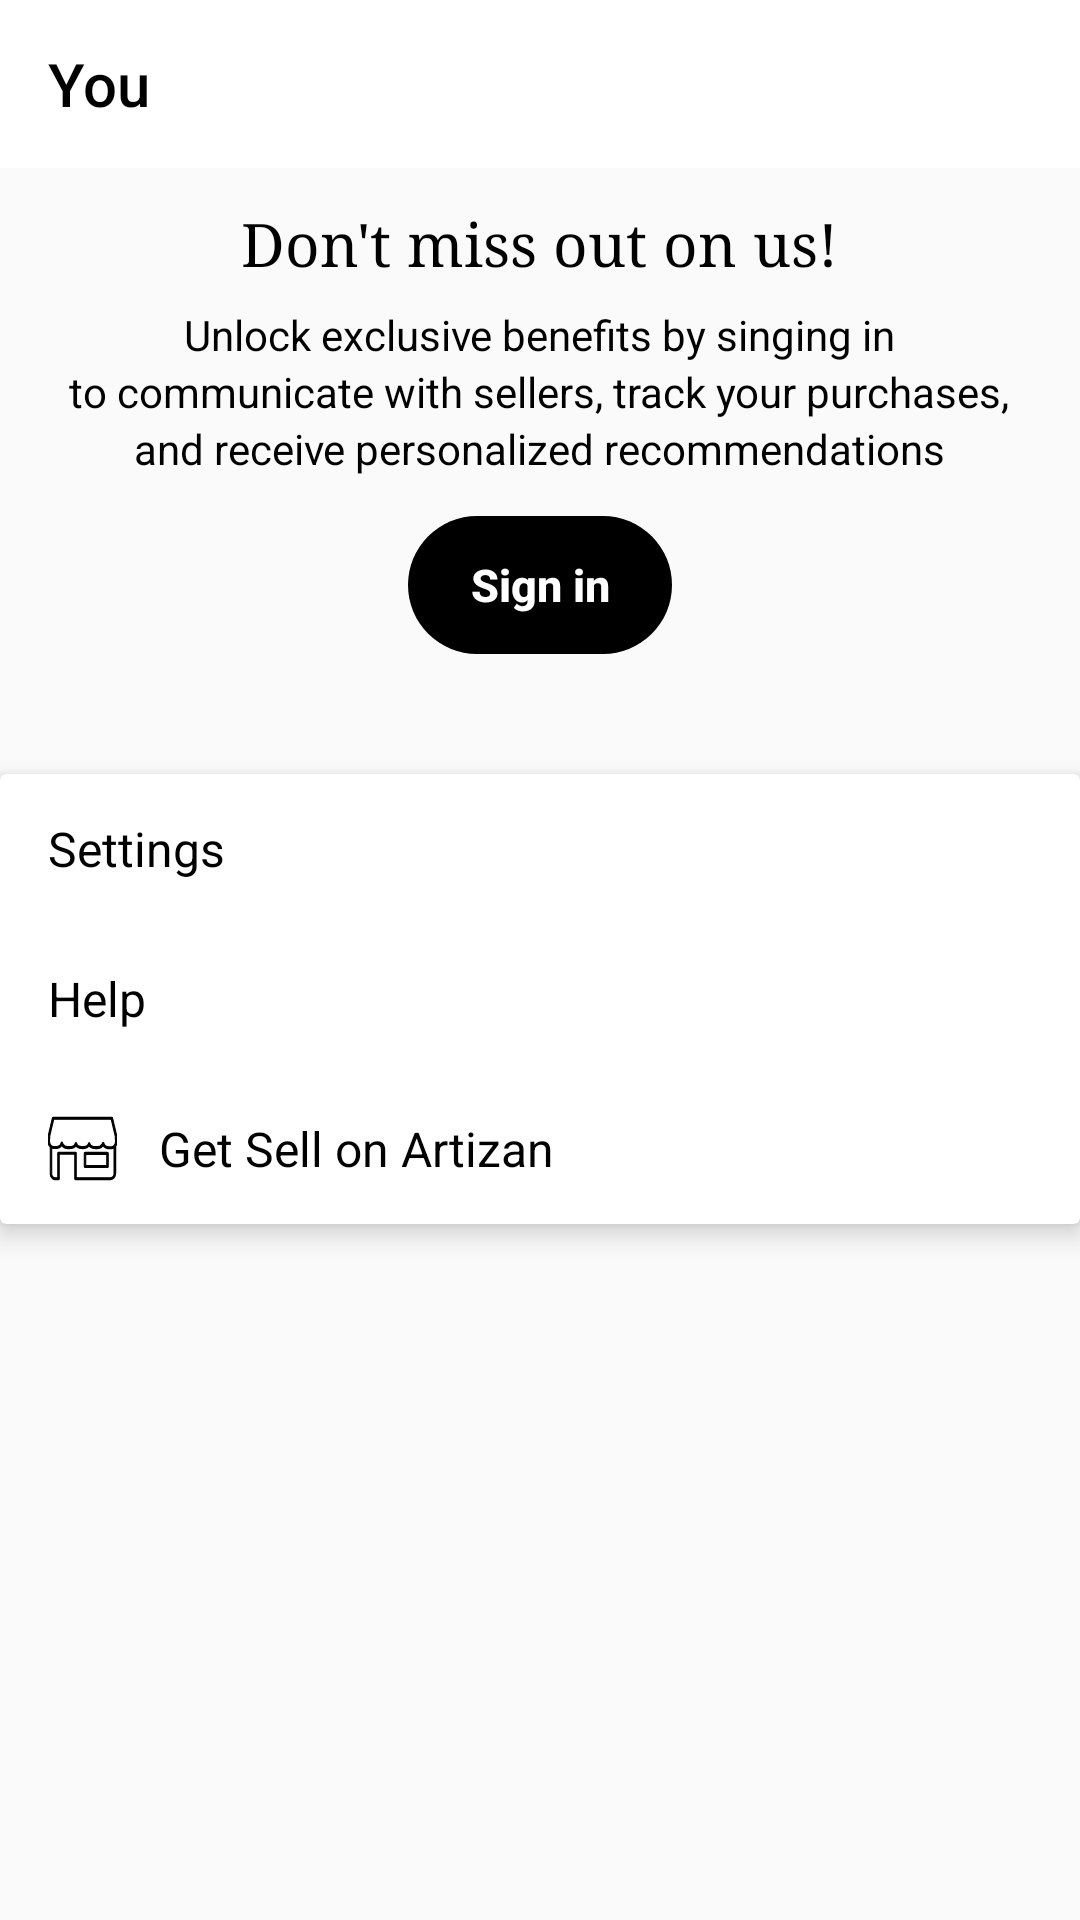

Icon click points for this 1080×1920 phone screenshot, format [x,y]:
store: [82,1148]
